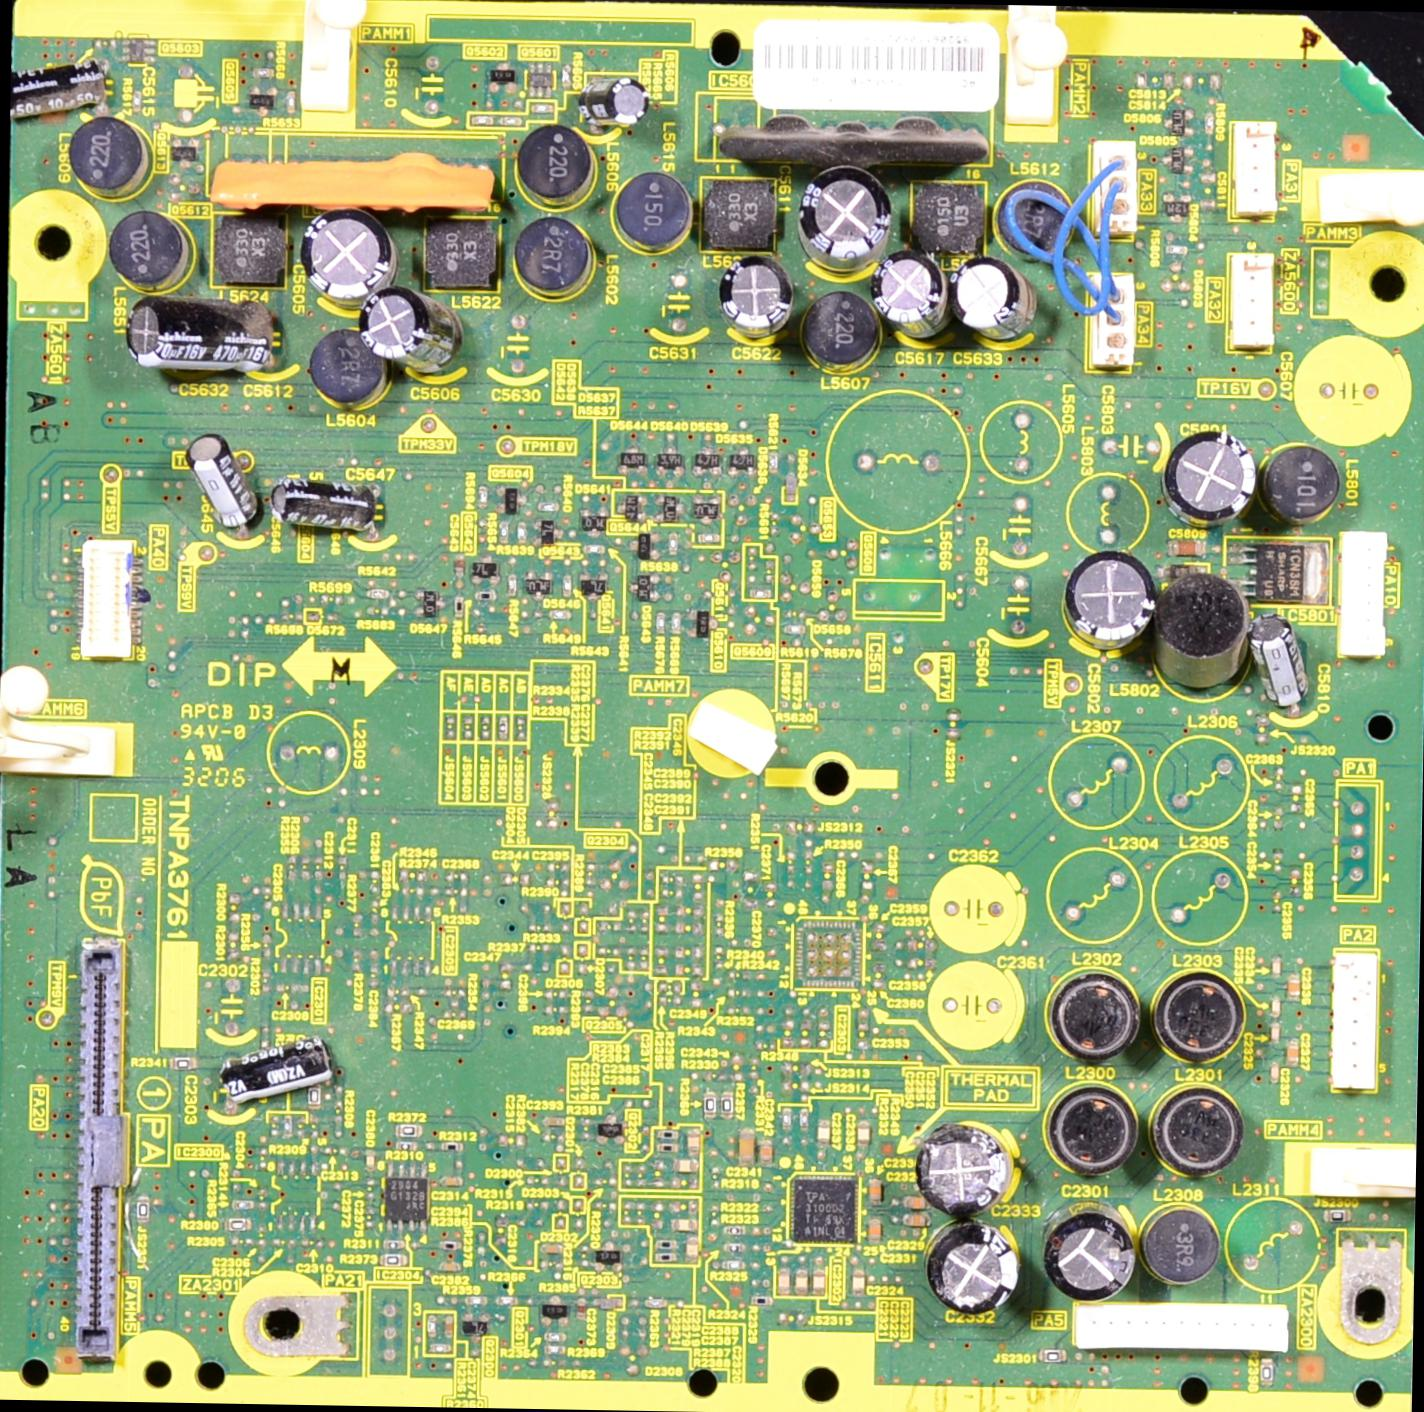Capacitor Jumper: (125, 299, 295, 384), (1042, 1203, 1141, 1297), (913, 1122, 1013, 1213), (929, 1225, 1024, 1318), (1071, 546, 1147, 656), (365, 284, 454, 376), (313, 204, 394, 304), (799, 166, 887, 256), (190, 438, 268, 540), (210, 1042, 338, 1103), (1251, 617, 1318, 712), (10, 61, 105, 128), (715, 261, 793, 341), (1174, 418, 1236, 517), (960, 268, 1042, 340), (274, 486, 393, 530), (885, 260, 945, 328), (1097, 420, 1177, 471), (491, 309, 533, 387), (663, 262, 695, 337), (1165, 537, 1208, 557), (739, 1130, 758, 1165), (848, 1268, 868, 1298), (811, 1267, 829, 1298), (773, 1267, 792, 1298), (903, 1212, 934, 1228), (1286, 1040, 1302, 1069), (867, 1219, 882, 1249), (683, 1236, 698, 1265), (901, 1193, 927, 1210), (671, 1217, 697, 1234), (795, 1268, 810, 1298), (817, 1120, 833, 1147), (538, 1240, 565, 1256), (758, 1140, 775, 1165), (859, 1121, 873, 1148), (687, 1128, 701, 1155), (868, 1178, 881, 1208), (1266, 1063, 1283, 1085), (675, 1157, 698, 1173), (440, 1174, 460, 1191), (454, 552, 467, 578), (1288, 975, 1301, 1001), (438, 1259, 460, 1272), (444, 1315, 455, 1338), (542, 1116, 566, 1126), (1271, 956, 1282, 979), (366, 1150, 376, 1170), (577, 1296, 586, 1319), (1271, 997, 1280, 1019), (1271, 1022, 1280, 1042)
Connector: (72, 937, 137, 1371), (69, 537, 154, 665), (1071, 1307, 1301, 1349), (1330, 948, 1383, 1091), (1339, 530, 1386, 650)
IC: (792, 1170, 861, 1241), (383, 1161, 429, 1228)
Resistor Jumper: (220, 1217, 255, 1234), (397, 1121, 427, 1139), (504, 572, 523, 601), (546, 606, 574, 623), (513, 520, 530, 546), (494, 521, 511, 546), (379, 1253, 410, 1266), (168, 1058, 198, 1071), (232, 1199, 257, 1213), (561, 572, 574, 600), (560, 63, 574, 89), (722, 1091, 735, 1118), (642, 1297, 669, 1310), (702, 1094, 717, 1118), (438, 1140, 463, 1155), (365, 587, 391, 600), (365, 605, 391, 618), (281, 1116, 295, 1139), (1161, 243, 1190, 255), (582, 543, 605, 557), (250, 65, 273, 79), (394, 1140, 419, 1153), (542, 1343, 566, 1356), (537, 500, 561, 513), (782, 1108, 794, 1134), (286, 91, 299, 114), (438, 1240, 464, 1252), (382, 1240, 407, 1252), (495, 1294, 519, 1307), (472, 588, 495, 601), (719, 1259, 744, 1271), (498, 115, 523, 127), (751, 1296, 773, 1309), (654, 613, 667, 635), (658, 1143, 682, 1155), (654, 1239, 678, 1250), (768, 447, 779, 473), (723, 1225, 745, 1236), (723, 1241, 745, 1253), (466, 1294, 488, 1306), (477, 485, 489, 507), (799, 1108, 808, 1135), (656, 1131, 679, 1142), (133, 89, 144, 112), (530, 103, 554, 114), (1204, 112, 1214, 136), (653, 1252, 676, 1262), (471, 115, 494, 125), (428, 1342, 451, 1353), (543, 1333, 569, 1342), (698, 533, 720, 543), (453, 597, 464, 617), (786, 625, 806, 636), (428, 1315, 437, 1338), (749, 590, 772, 599), (673, 613, 680, 635)
Transistor: (537, 1293, 573, 1328), (594, 1239, 626, 1276), (594, 1109, 623, 1147), (460, 1311, 488, 1346), (525, 62, 555, 93), (123, 40, 160, 63), (172, 137, 199, 168), (490, 63, 517, 94), (248, 89, 272, 119)
